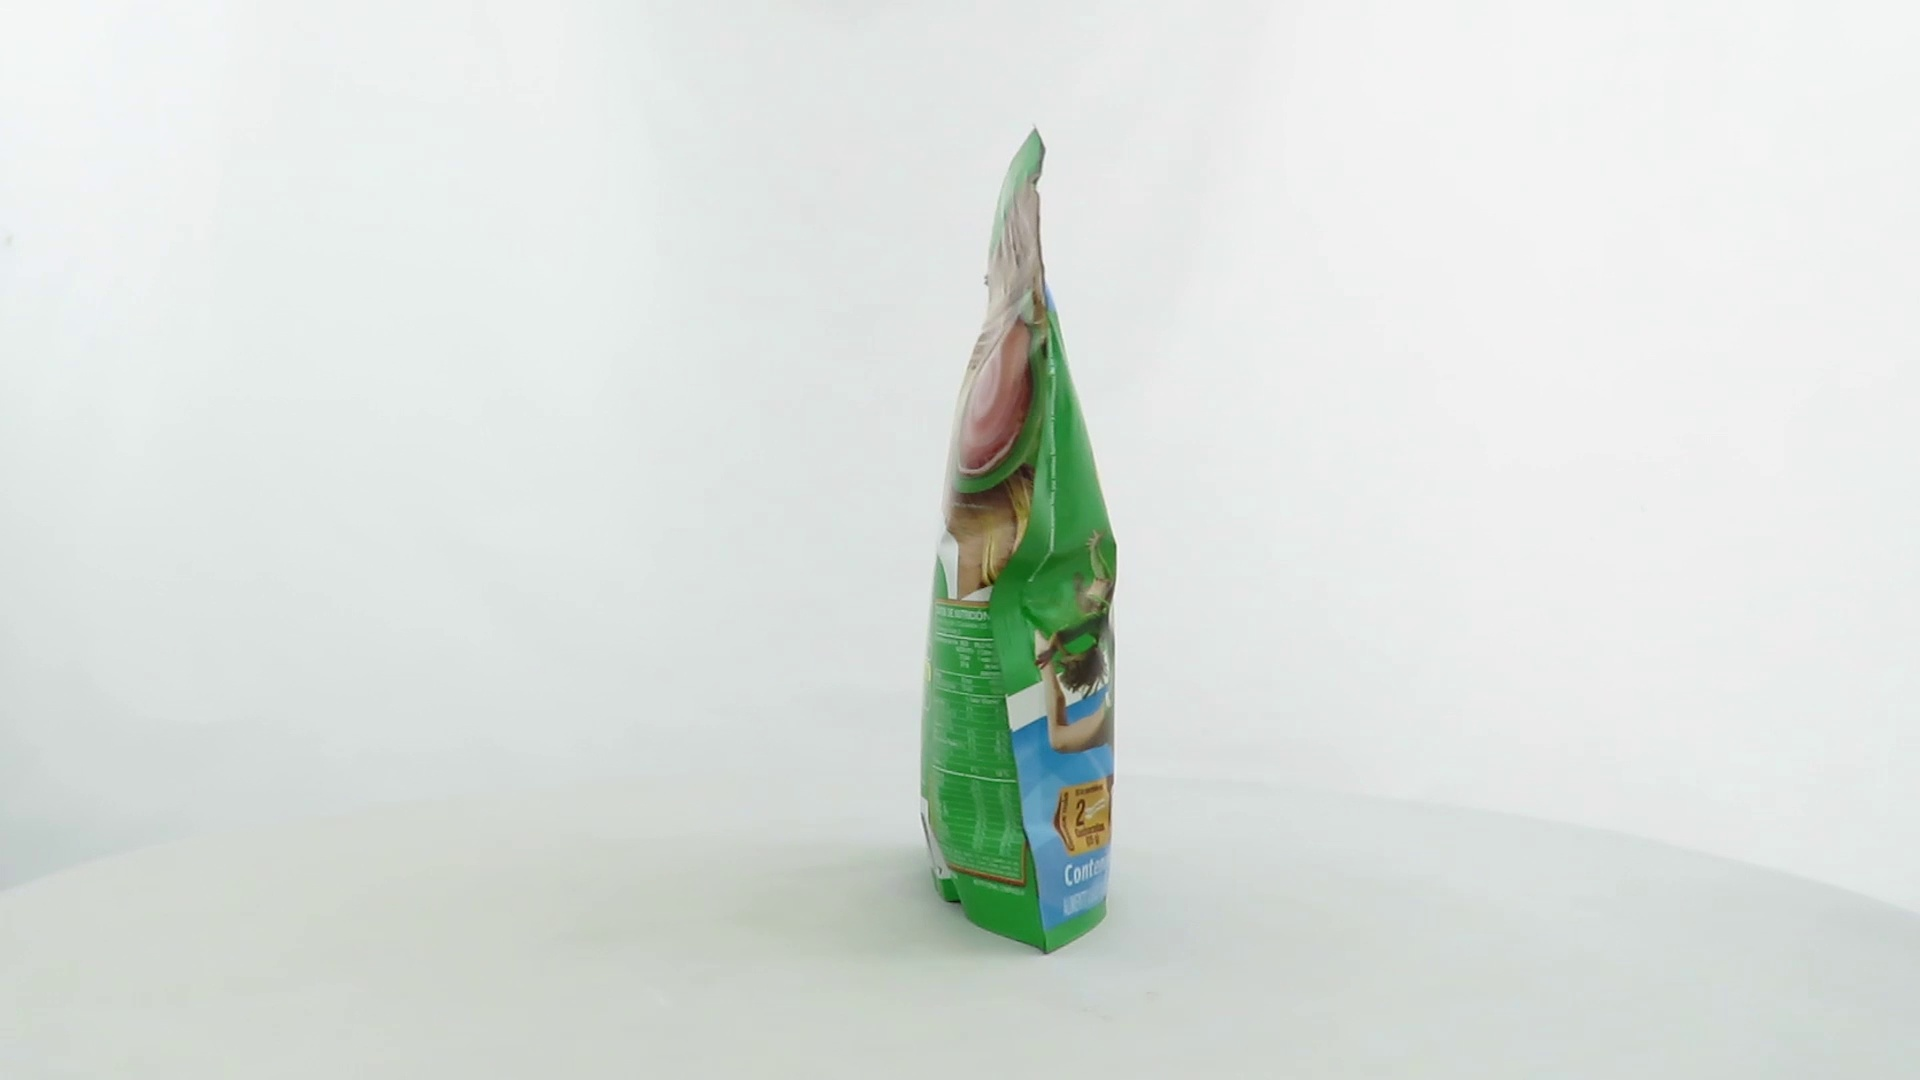COL0170205DYP20000: (915, 123, 1124, 961)
